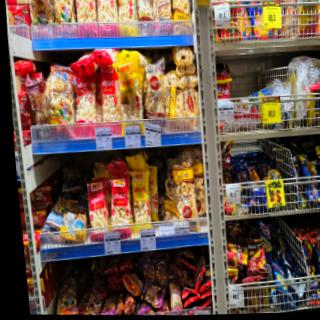food-box: (45, 70, 77, 128), (71, 75, 102, 134), (142, 63, 170, 122), (86, 178, 112, 238), (98, 70, 123, 127), (130, 168, 154, 227), (57, 200, 90, 241), (108, 180, 132, 233), (164, 90, 200, 124), (30, 76, 50, 134), (245, 238, 269, 277), (301, 234, 316, 280), (68, 55, 94, 77), (226, 243, 249, 265), (94, 49, 113, 64), (316, 231, 320, 285)
